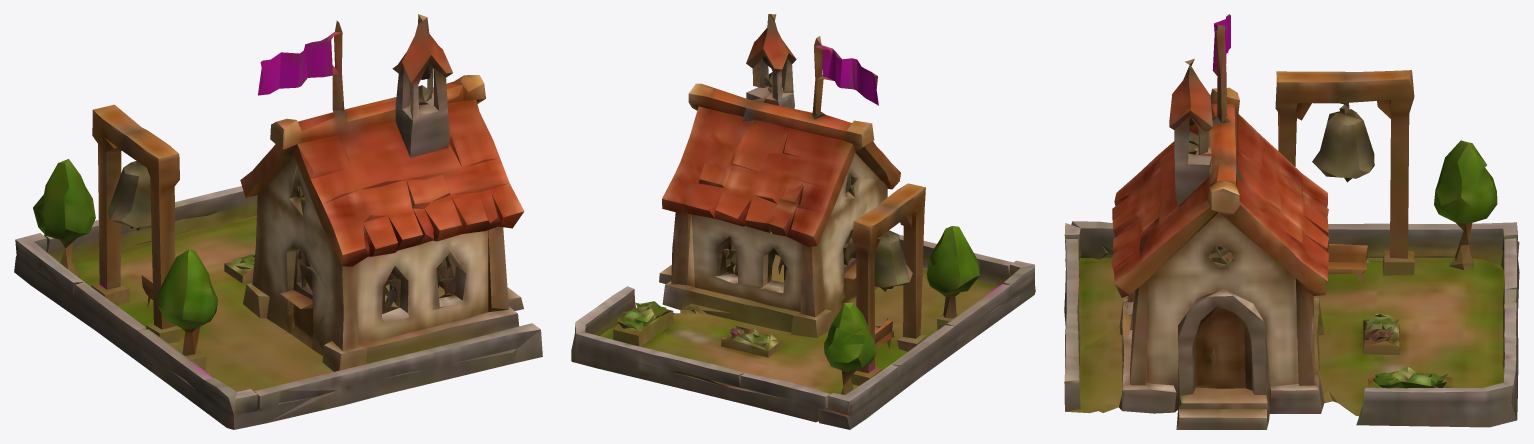
The model's file is chapel.lod2.glb.
3 views of the same model, side by side, from view 1: azimuth 30°, elevation 25°; view 2: azimuth 150°, elevation 25°; view 3: azimuth 270°, elevation 25° (orthographic). The views are drawn at different scales.
Visible parts, largest first — view 1: chapel.lod2_uv; view 2: chapel.lod2_uv; view 3: chapel.lod2_uv.
Boxes of the visible parts, bbox=[...] form: chapel.lod2_uv: bbox=[14, 14, 542, 429]; chapel.lod2_uv: bbox=[571, 14, 1035, 429]; chapel.lod2_uv: bbox=[1064, 14, 1519, 429].
Size of the model in its own units: 1.72 by 1.48 by 1.89.
1 material, 1 textured.
